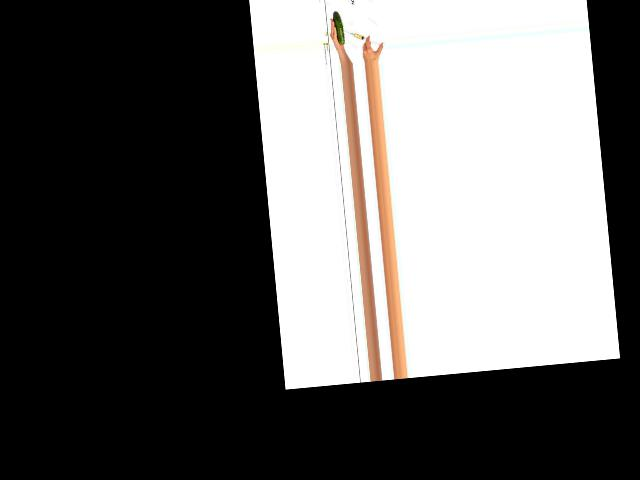cucumber: (332, 11, 344, 45)
